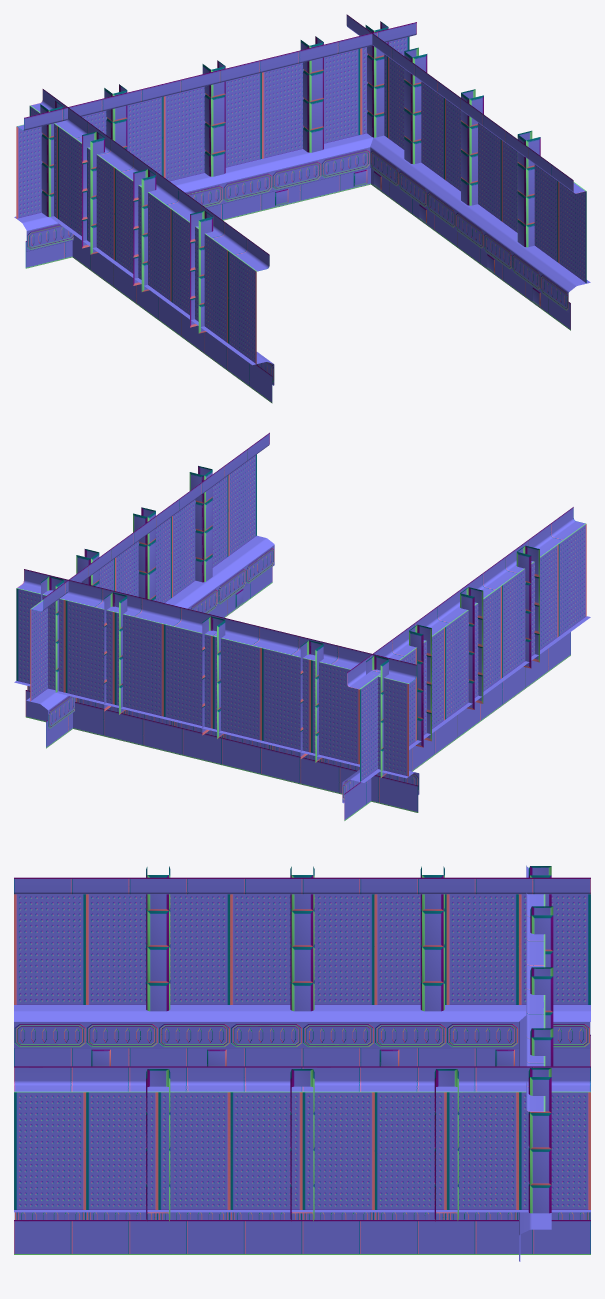
File: wall_inter.fbx
3 views of the same model, one above another, from view 1: azimuth 30°, elevation 25°; view 2: azimuth 150°, elevation 25°; view 3: azimuth 270°, elevation 25° (orthographic). The views are drawn at different scales.
Parts seen in each view (by area): view 1: polySurface74; view 2: polySurface74; view 3: polySurface74.
Boxes of the visible parts, x1=… form: polySurface74: x1=14, y1=14, x2=590, y2=403; polySurface74: x1=14, y1=432, x2=590, y2=820; polySurface74: x1=14, y1=865, x2=590, y2=1261.
Size of the model in its own units: 457 by 167 by 457.
